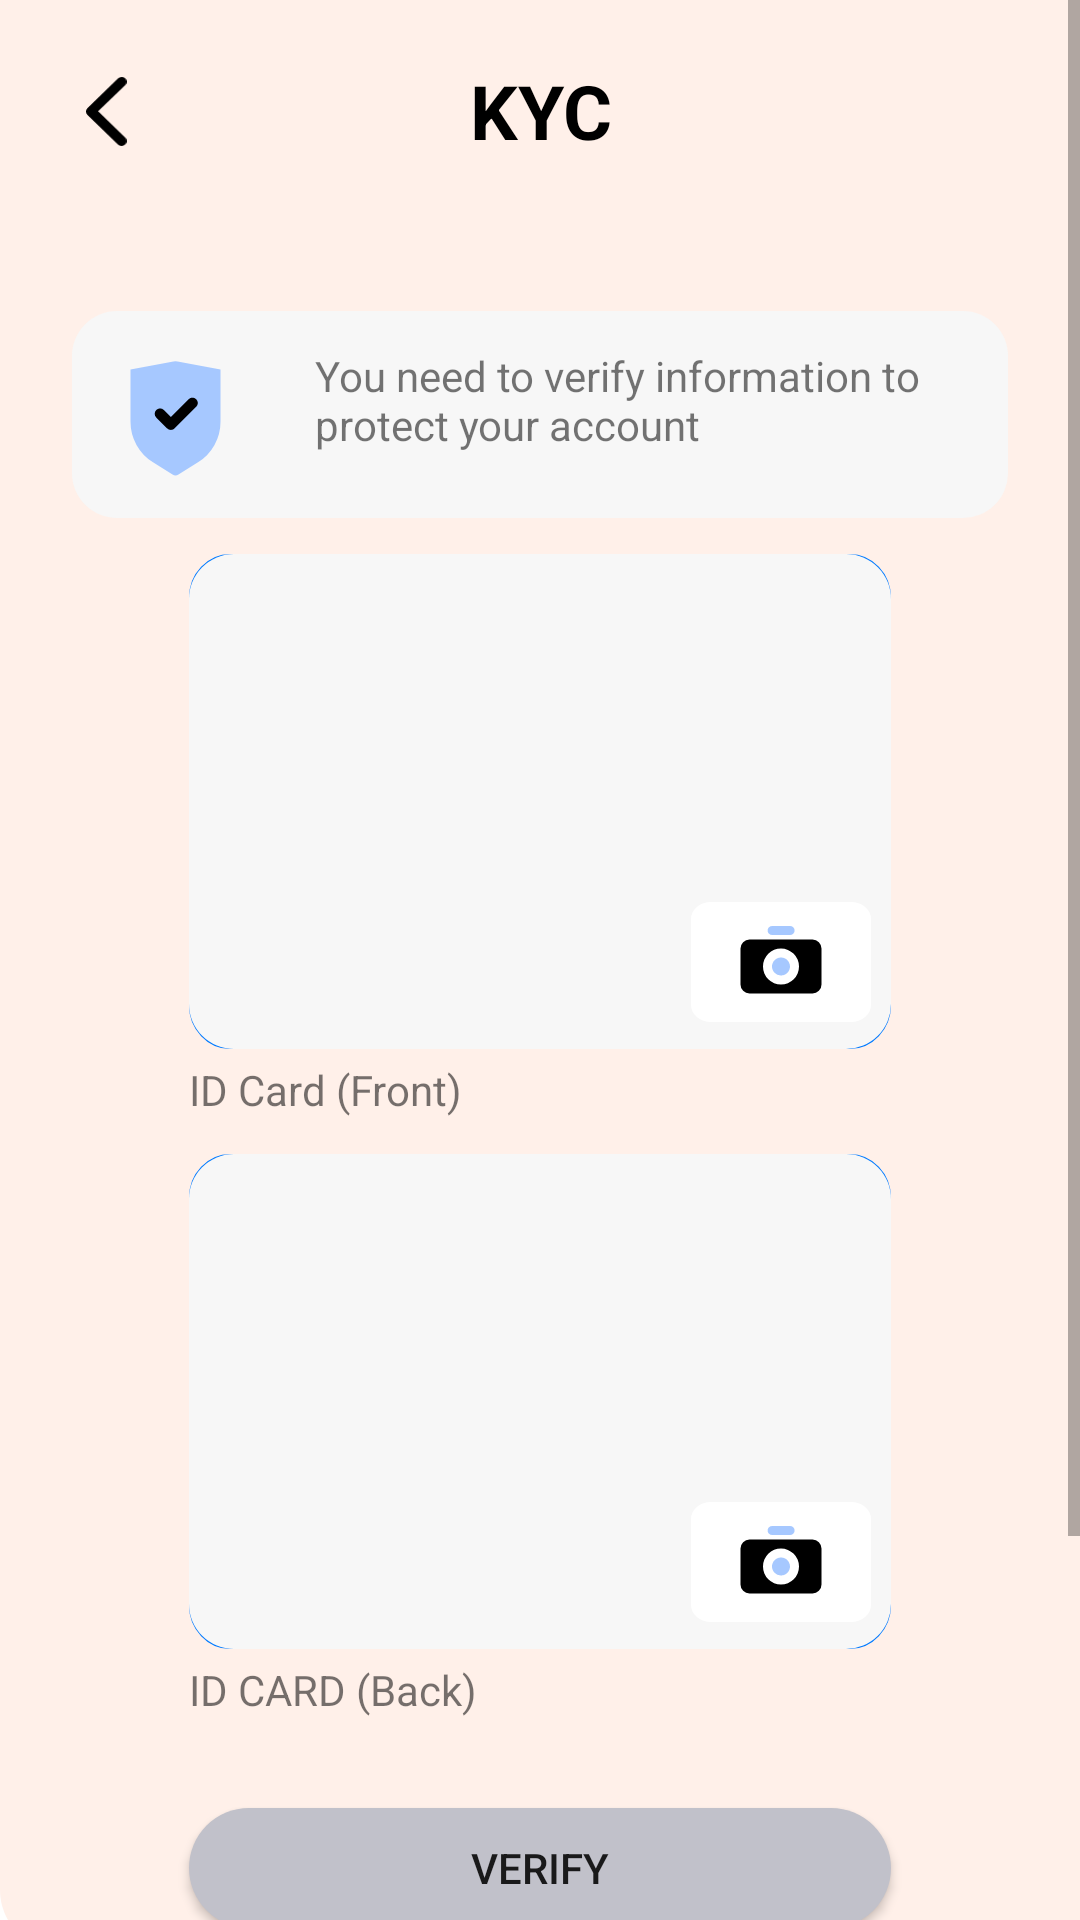

Screen size 1080x1920. Icon name, then its box in pixels as (x1, y1, x2, y2):
arrowleft: (86, 77, 127, 146)
cameras: (740, 926, 822, 994), (740, 1526, 822, 1594)
